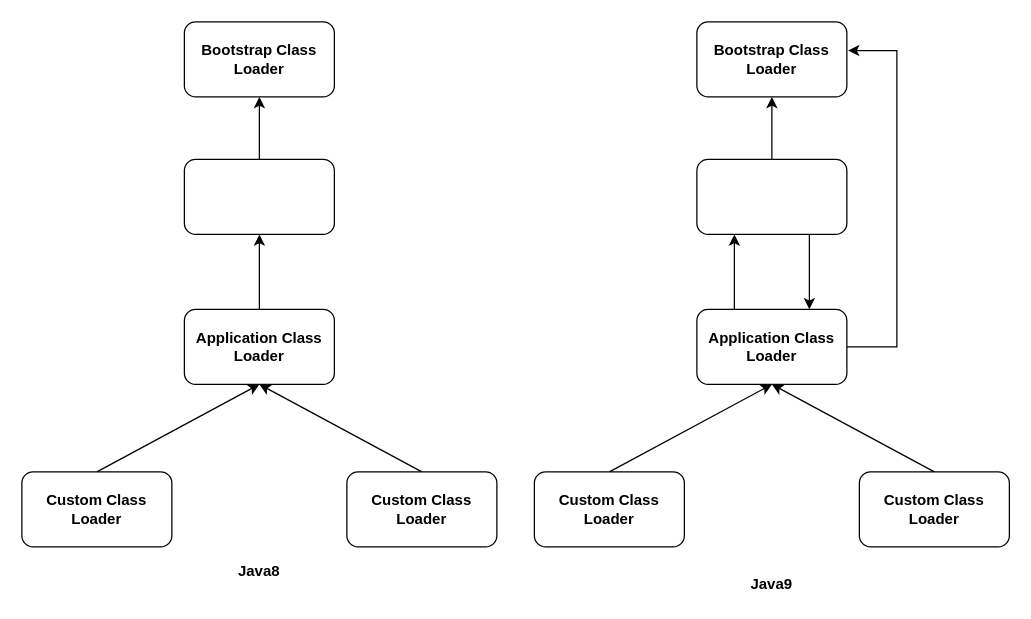
Image size: 1031x619. Some labels were removed from this diagram. Here are the shapes that lost their labels. From the top down, the centre of each, then its label:
At point (258, 196): "Extension Class Loader".
At point (771, 196): "Platform Class Loader".
